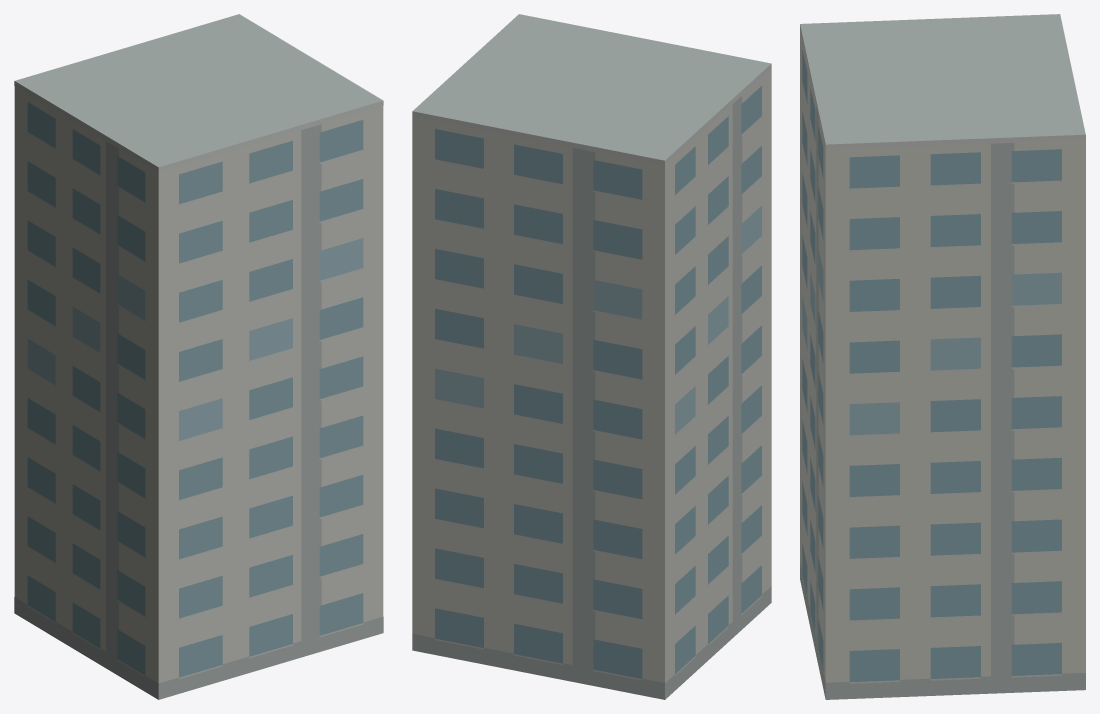
Rendered from residential-2c283b29-13a5-481a-87a0-3f98e13f0e82.glb.
3 views of the same model, side by side, from view 1: azimuth 30°, elevation 25°; view 2: azimuth 150°, elevation 25°; view 3: azimuth 270°, elevation 25° (orthographic). The views are drawn at different scales.
Visible parts, largest first — view 1: residential-2c283b29-13a5-481a-87a0-3f98e13f0e82.tmp; view 2: residential-2c283b29-13a5-481a-87a0-3f98e13f0e82.tmp; view 3: residential-2c283b29-13a5-481a-87a0-3f98e13f0e82.tmp.
Boxes of the visible parts, box(x1,y1,x2,y2) form: residential-2c283b29-13a5-481a-87a0-3f98e13f0e82.tmp: box(14, 14, 383, 699); residential-2c283b29-13a5-481a-87a0-3f98e13f0e82.tmp: box(412, 14, 771, 699); residential-2c283b29-13a5-481a-87a0-3f98e13f0e82.tmp: box(800, 14, 1085, 699).
Bounding box in the file's own units: 12.61 × 25 × 11.67.
